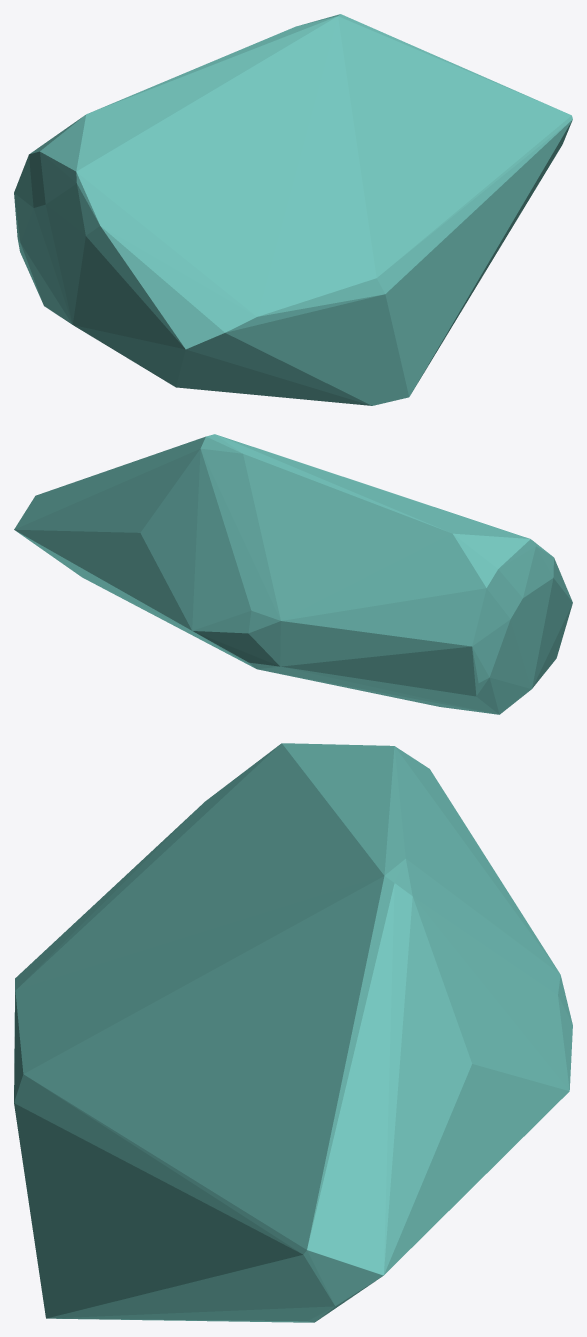
File: electricalSystem_starter_c01.glb
3 renders of one model, top to bottom at view 1: azimuth 30°, elevation 25°; view 2: azimuth 150°, elevation 25°; view 3: azimuth 270°, elevation 25°, orthographic. The views are drawn at different scales.
Parts seen in each view (by area): view 1: geometry_0; view 2: geometry_0; view 3: geometry_0.
Part boxes in pixels (<box>): geometry_0: <box>14,14,572,405</box>; geometry_0: <box>14,434,572,714</box>; geometry_0: <box>14,743,572,1322</box>.
Bounding box in the file's own units: 0.4797 × 0.2626 × 0.2831.
